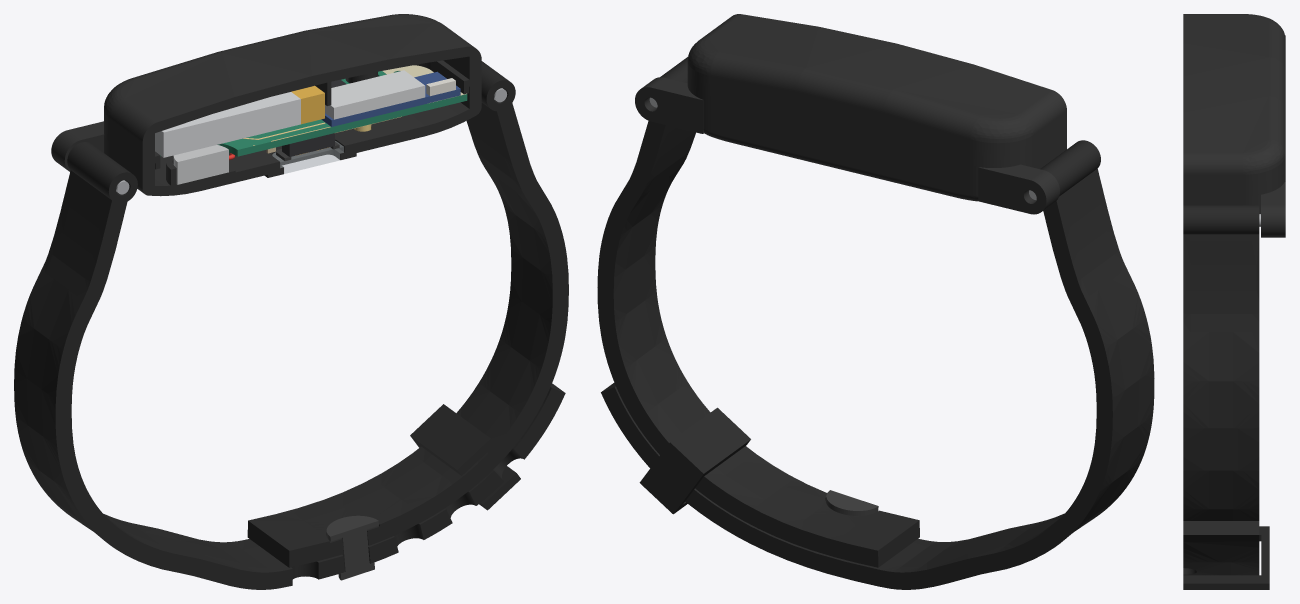
The model's file is bracelet_section_Y0.glb.
3 views of the same model, side by side, from view 1: azimuth 30°, elevation 25°; view 2: azimuth 150°, elevation 25°; view 3: azimuth 270°, elevation 25° (orthographic). The views are drawn at different scales.
Parts seen in each view (by area): view 1: SEC_Band_strap_B_long, SEC_Band_strap_A_short, SEC_Upper_housing_removable_cover, SEC_Lower_housing, SEC_LiPo_battery_pouch, SEC_Band_keeper_loop, SEC_BLE_MCU_shield_can_nRF52832, SEC_PCB_main_board, SEC_Clasp_stud, SEC_Vibration_motor_DIANN, SEC_BLE_module_board, SEC_Optical_sensor_window (+1 smaller); view 2: SEC_Upper_housing_removable_cover, SEC_Band_strap_B_long, SEC_Band_strap_A_short, SEC_Lower_housing, SEC_Band_keeper_loop, SEC_Clasp_stud; view 3: SEC_Band_strap_A_short, SEC_Upper_housing_removable_cover, SEC_Band_strap_B_long, SEC_Lower_housing, SEC_Band_keeper_loop.
Boxes of the visible parts, <box> form: SEC_Band_strap_B_long: <box>14,142,565,589</box>; SEC_Band_strap_A_short: <box>247,61,568,567</box>; SEC_Upper_housing_removable_cover: <box>104,14,481,169</box>; SEC_Lower_housing: <box>51,73,481,196</box>; SEC_LiPo_battery_pouch: <box>155,92,300,157</box>; SEC_Band_keeper_loop: <box>410,404,520,510</box>; SEC_BLE_MCU_shield_can_nRF52832: <box>325,70,425,119</box>; SEC_PCB_main_board: <box>160,71,467,156</box>; SEC_Clasp_stud: <box>326,515,378,580</box>; SEC_Vibration_motor_DIANN: <box>173,145,228,184</box>; SEC_BLE_module_board: <box>321,71,460,126</box>; SEC_Optical_sensor_window: <box>272,141,343,173</box>; SEC_Upper_housing_removable_cover: <box>687,14,1066,167</box>; SEC_Band_strap_B_long: <box>601,140,1154,589</box>; SEC_Band_strap_A_short: <box>597,57,919,567</box>; SEC_Lower_housing: <box>635,77,1066,214</box>; SEC_Band_keeper_loop: <box>639,407,750,514</box>; SEC_Clasp_stud: <box>826,490,878,515</box>; SEC_Band_strap_A_short: <box>1183,205,1259,520</box>; SEC_Upper_housing_removable_cover: <box>1183,14,1285,196</box>; SEC_Band_strap_B_long: <box>1183,521,1259,575</box>; SEC_Lower_housing: <box>1183,35,1285,237</box>; SEC_Band_keeper_loop: <box>1183,526,1269,589</box>.
Size of the model in its own units: 0.0636 by 0.0606 by 0.012.
